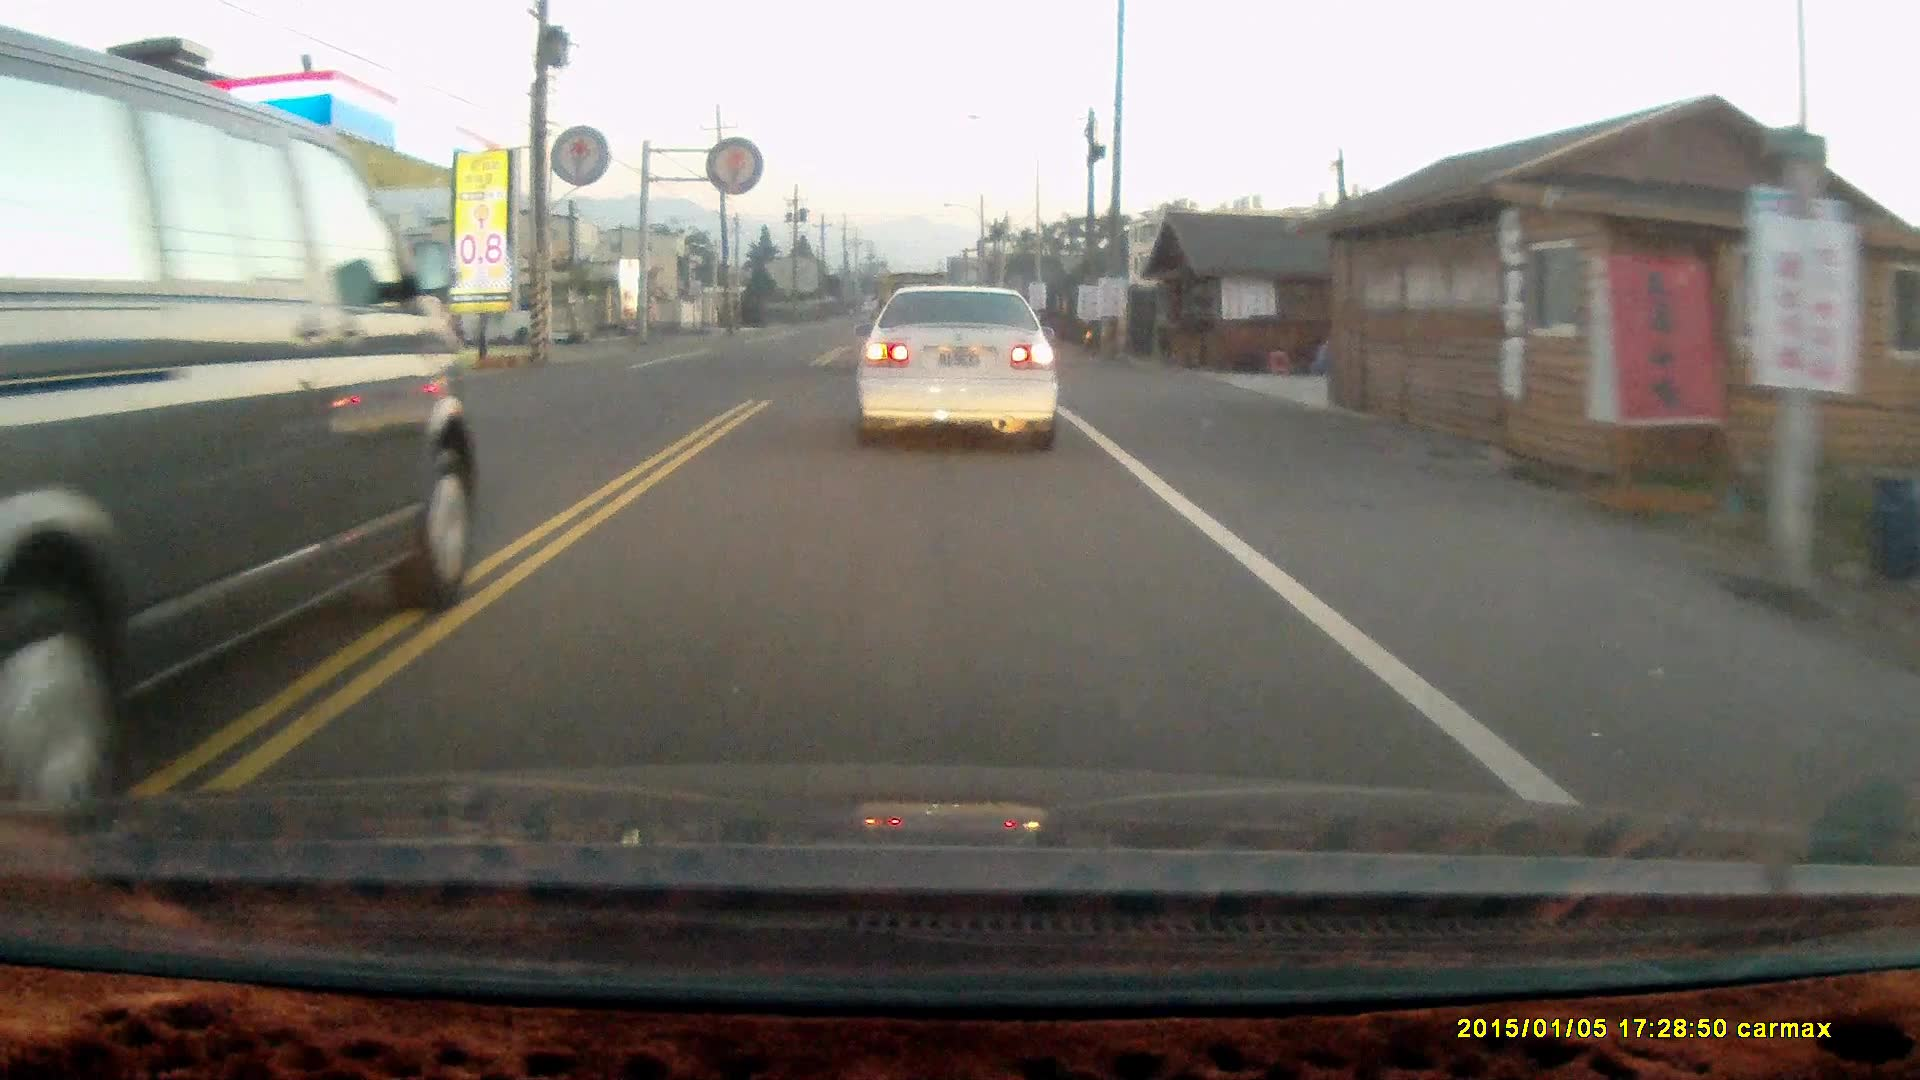vehicle: (1, 29, 476, 796), (853, 280, 1064, 458)
